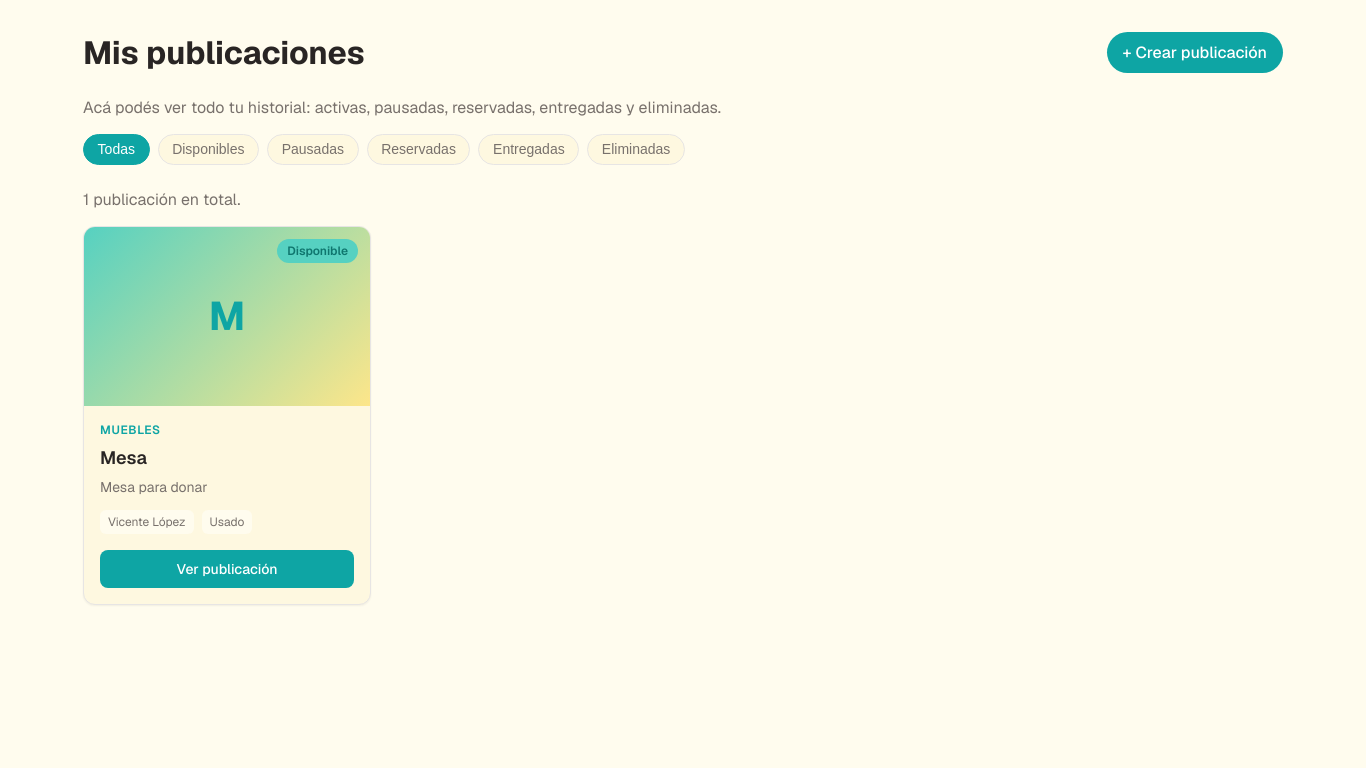
MisPublicacionesPage › renderiza publicaciones y permite filtrar por estado
Expected: the heading "Mesa" is shown, [100, 446, 147, 468]
Expected: the text "1 publicación en total." is shown, [83, 189, 240, 210]
Click the tab "Reservadas" at (419, 149), box [367, 134, 470, 165]
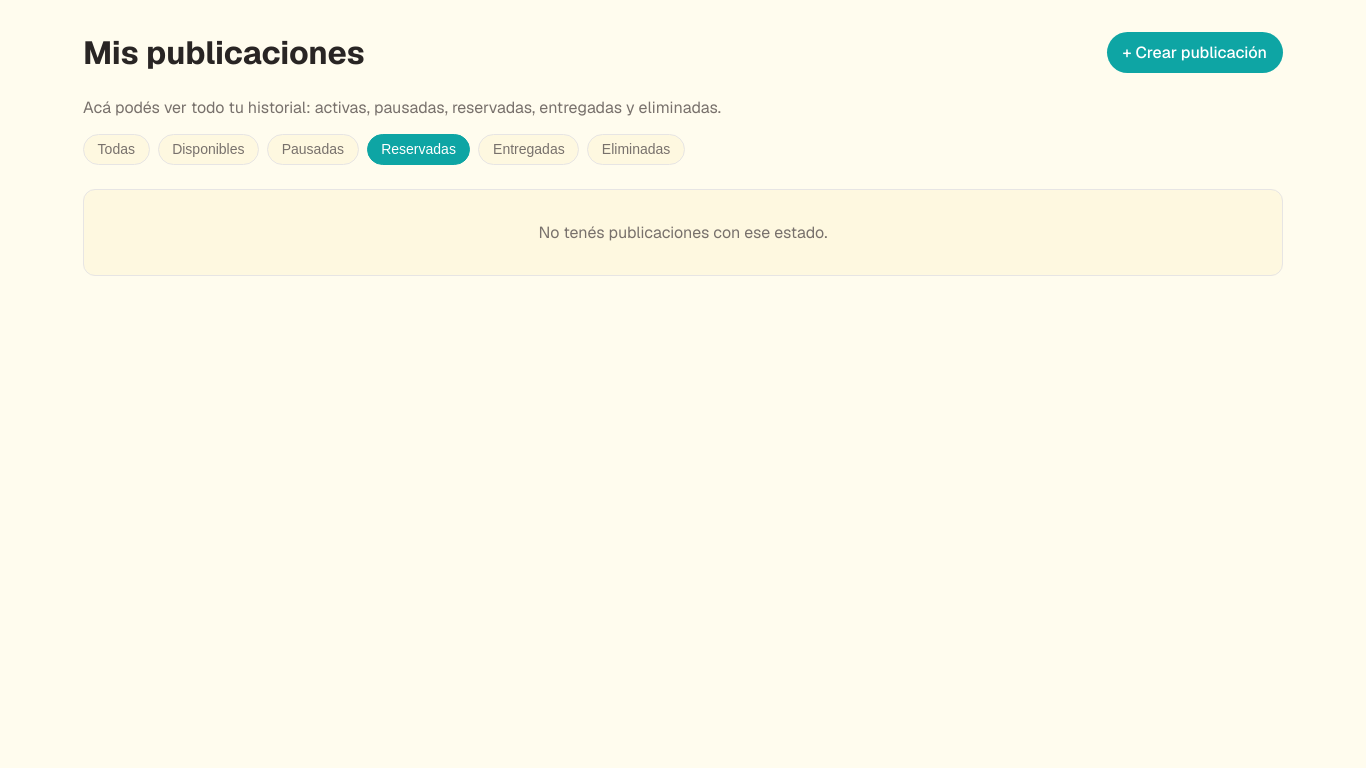
Now the text "No tenés publicaciones con ese estado." is shown, box [539, 222, 827, 243]
